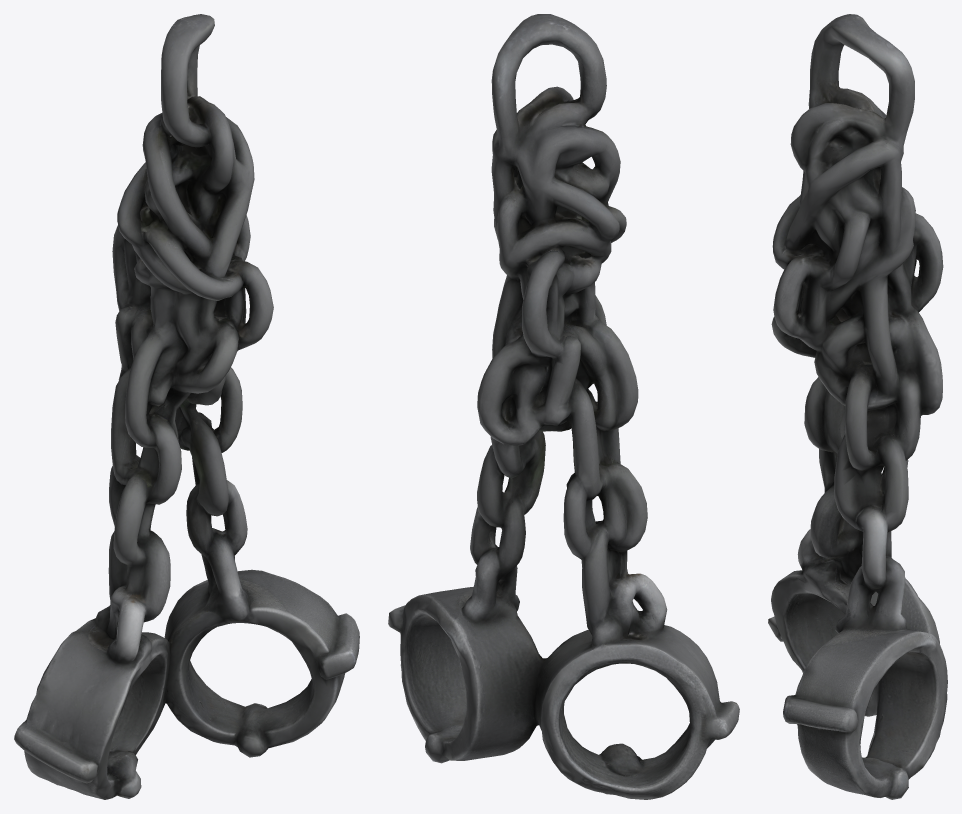
File: ritual_chains_dangling.glb
The picture shows the model from 3 angles, left to right: view 1: azimuth 30°, elevation 25°; view 2: azimuth 150°, elevation 25°; view 3: azimuth 270°, elevation 25°; orthographic projection. The views are drawn at different scales.
Bounding box in the file's own units: 0.9469 × 2 × 0.4423.
1 material, 1 textured.
